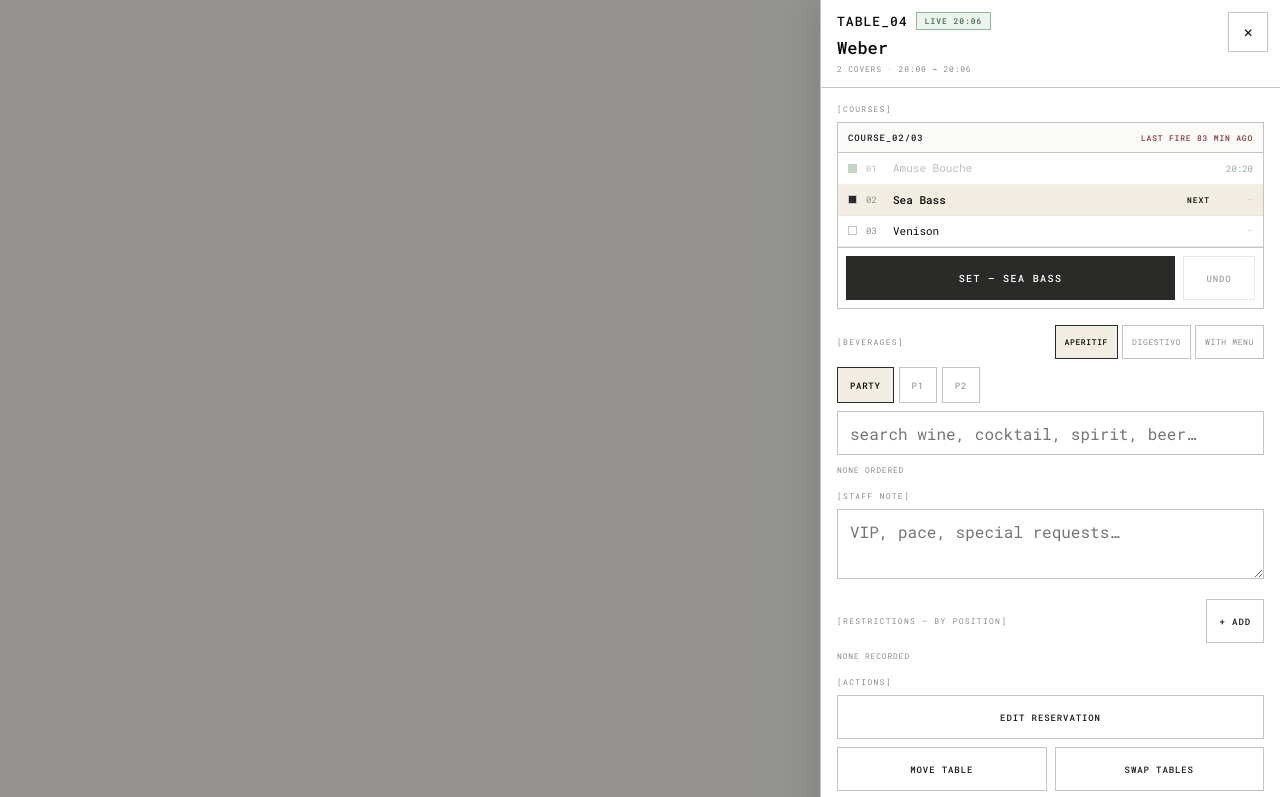
it: TableSheet — beverages › offers GLASS and BOTTLE on every wine, whatever the printed list says
The image size is (1280, 797).
Type "rebula" into the field named "Search beverages".
click(1050, 433); type("rebula")  # box [837,411,1264,455]
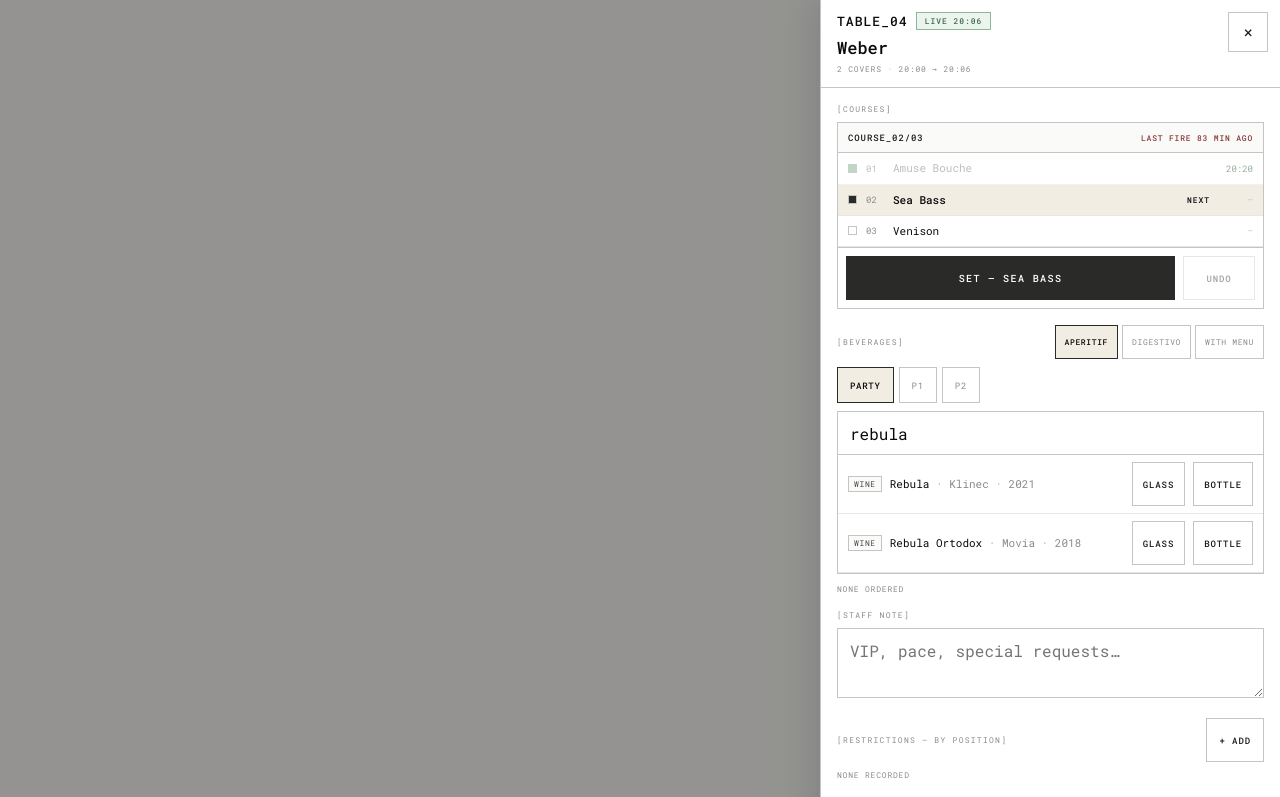
Check: the number of buttons "BOTTLE" is 2, box [1193,462,1253,506]; [1193,521,1253,565]
Check: the number of buttons "GLASS" is 2, box [1132,462,1185,506]; [1132,521,1185,565]
